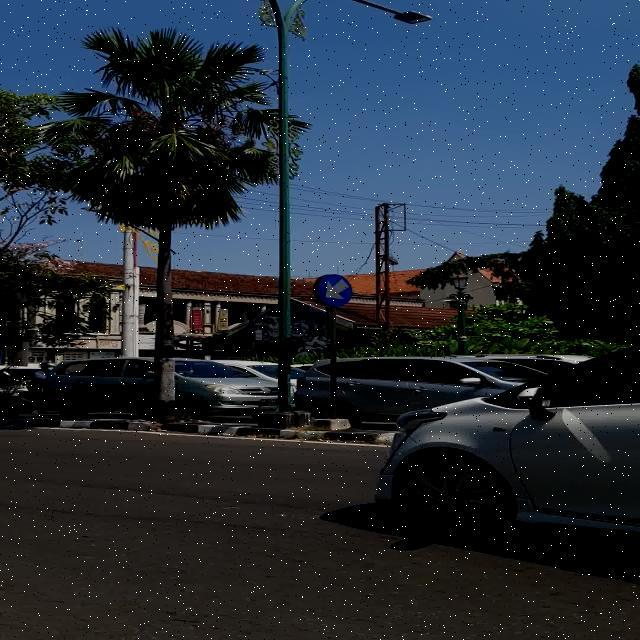Lajur Kiri: (318, 274, 351, 307)
